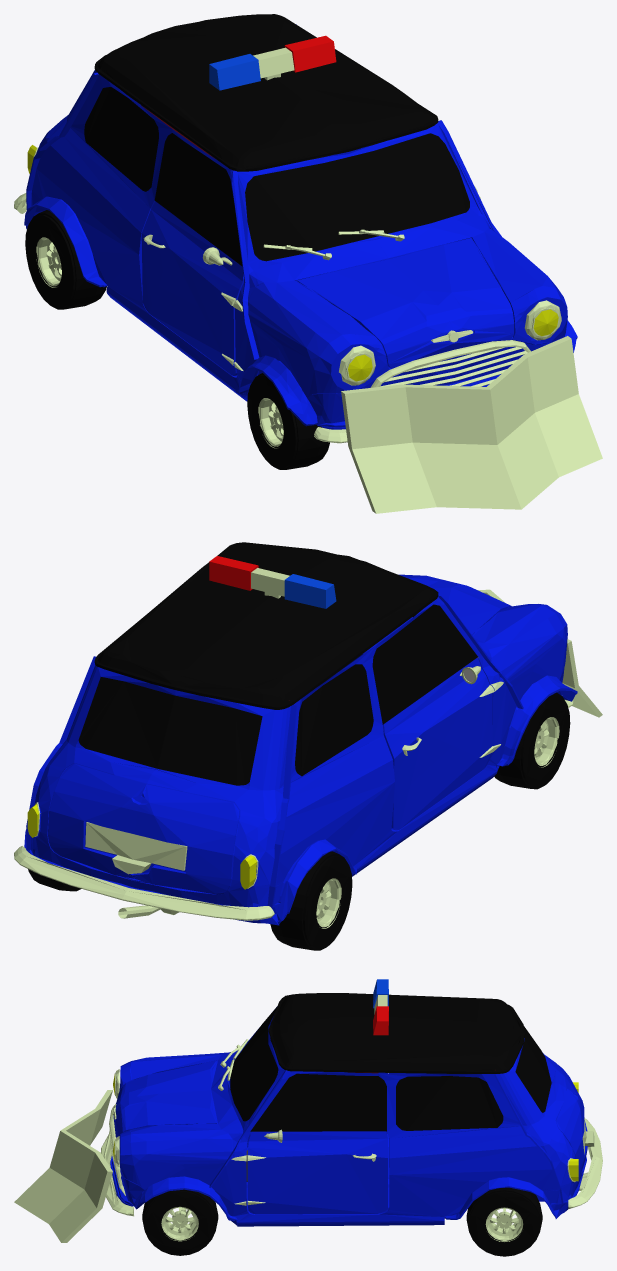
File: CopCar.fbx
The picture shows the model from 3 angles, top to bottom: view 1: azimuth 30°, elevation 25°; view 2: azimuth 150°, elevation 25°; view 3: azimuth 270°, elevation 25°; orthographic projection. The views are drawn at different scales.
Visible parts, largest first — view 1: Body3, Plow, Roof2, Windshield2, DoorRight2, WindowFrontRight2, Tire_RearRight2, Tire_FrontRight2, Siren; view 2: Body3, Roof2, Body.003, DoorRight2, WindowFrontRight2, Tire_RearRight2, Tire_FrontRight2, Siren, Plow; view 3: Body3, Roof2, DoorLeft2, Plow, WindowFrontLeft2, Tire_RearLeft2, Tire_FrontLeft2, Windshield2, Body.003, Siren.
Part boxes in pixels (x1=…): Body3: x1=14, y1=24, x2=577, y2=443; Plow: x1=341, y1=336, x2=602, y2=513; Roof2: x1=94, y1=14, x2=438, y2=171; Windshield2: x1=245, y1=133, x2=469, y2=261; DoorRight2: x1=141, y1=201, x2=243, y2=375; WindowFrontRight2: x1=154, y1=133, x2=242, y2=266; Tire_RearRight2: x1=25, y1=210, x2=106, y2=309; Tire_FrontRight2: x1=247, y1=373, x2=329, y2=469; Siren: x1=209, y1=35, x2=336, y2=90; Body3: x1=14, y1=574, x2=577, y2=925; Roof2: x1=94, y1=542, x2=438, y2=709; Body.003: x1=78, y1=677, x2=262, y2=785; DoorRight2: x1=383, y1=657, x2=494, y2=830; WindowFrontRight2: x1=372, y1=604, x2=477, y2=724; Tire_RearRight2: x1=270, y1=851, x2=352, y2=950; Tire_FrontRight2: x1=494, y1=692, x2=570, y2=789; Siren: x1=209, y1=556, x2=336, y2=608; Plow: x1=477, y1=589, x2=602, y2=717; Body3: x1=101, y1=1007, x2=602, y2=1226; Roof2: x1=268, y1=993, x2=525, y2=1073; DoorLeft2: x1=247, y1=1129, x2=387, y2=1214; Plow: x1=14, y1=1090, x2=112, y2=1242; WindowFrontLeft2: x1=250, y1=1073, x2=386, y2=1131; Tire_RearLeft2: x1=466, y1=1187, x2=542, y2=1256; Tire_FrontLeft2: x1=142, y1=1189, x2=218, y2=1255; Windshield2: x1=230, y1=1007, x2=278, y2=1121; Body.003: x1=515, y1=1026, x2=551, y2=1112; Siren: x1=373, y1=979, x2=388, y2=1035.
Bounding box in the file's own units: 336 × 313 × 801.
